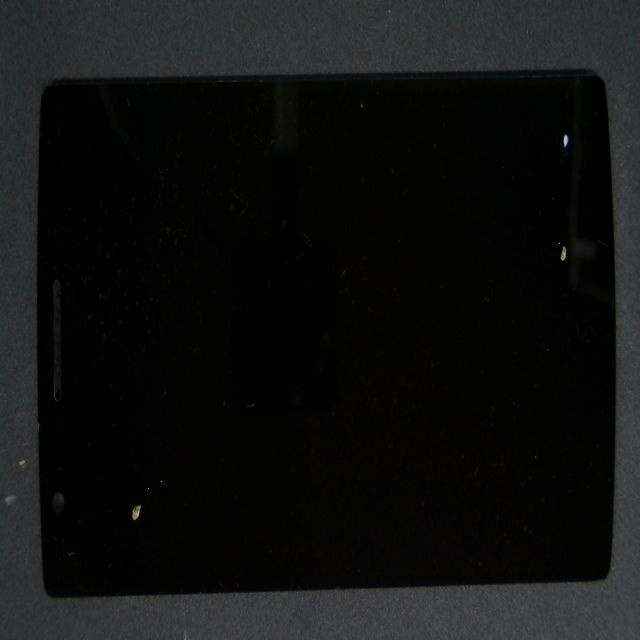stain: (274, 100, 640, 374), (54, 231, 183, 640), (294, 47, 640, 181)
